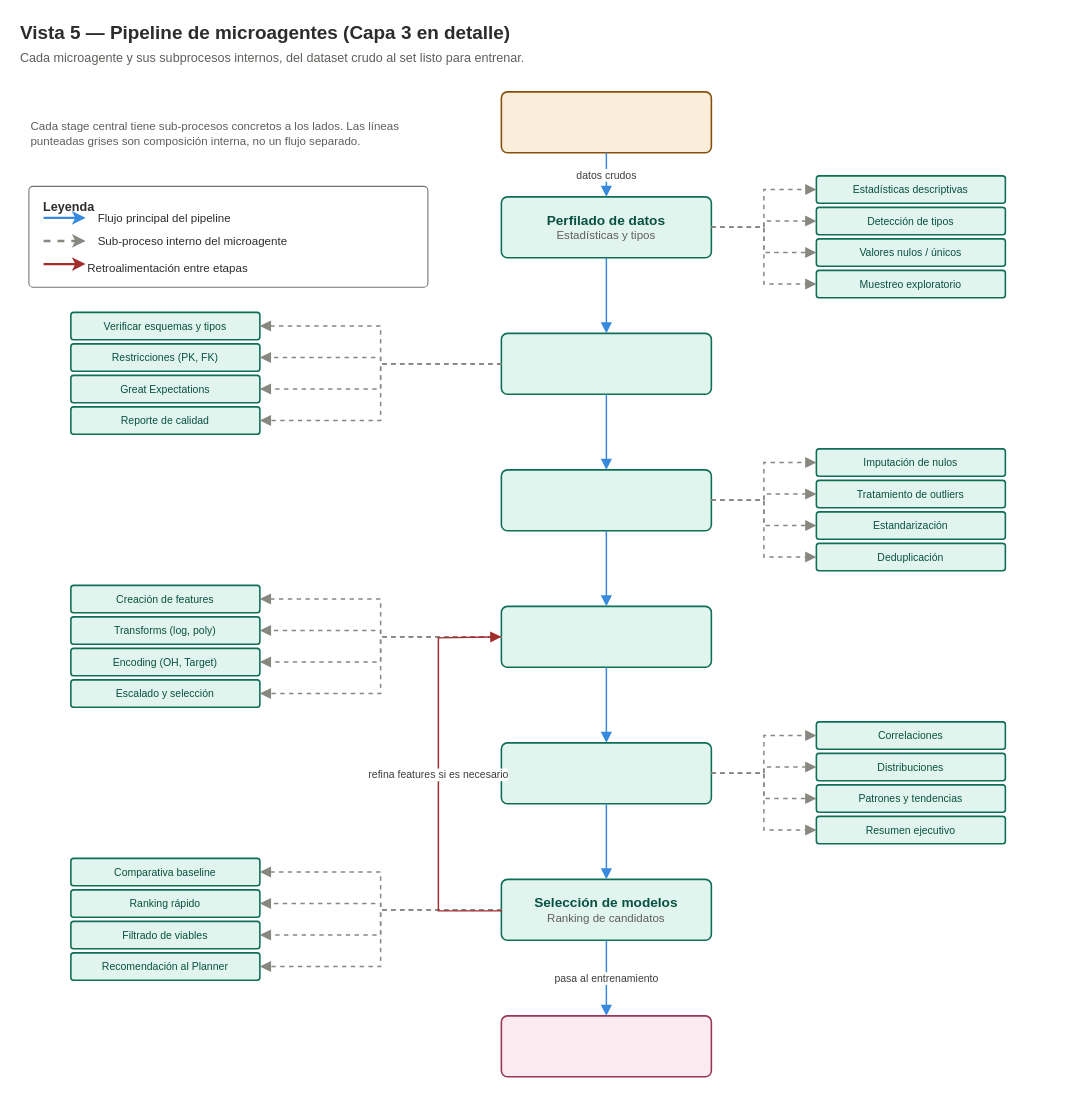
This 1086x1095 diagram has some shape labels left out. The centre of each missing label's shape, as x and y in pixels:
Data Lake / File Upload Dataset crudo: the point at 606,122
EDA Análisis exploratorio: the point at 606,773
Entrenamiento Dataset listo (Capa 6): the point at 606,1046
Feature Engineering Nuevas features: the point at 606,636
Limpieza de datos Imputación y outliers: the point at 606,500
Validación de datos Esquemas y reglas: the point at 606,363
